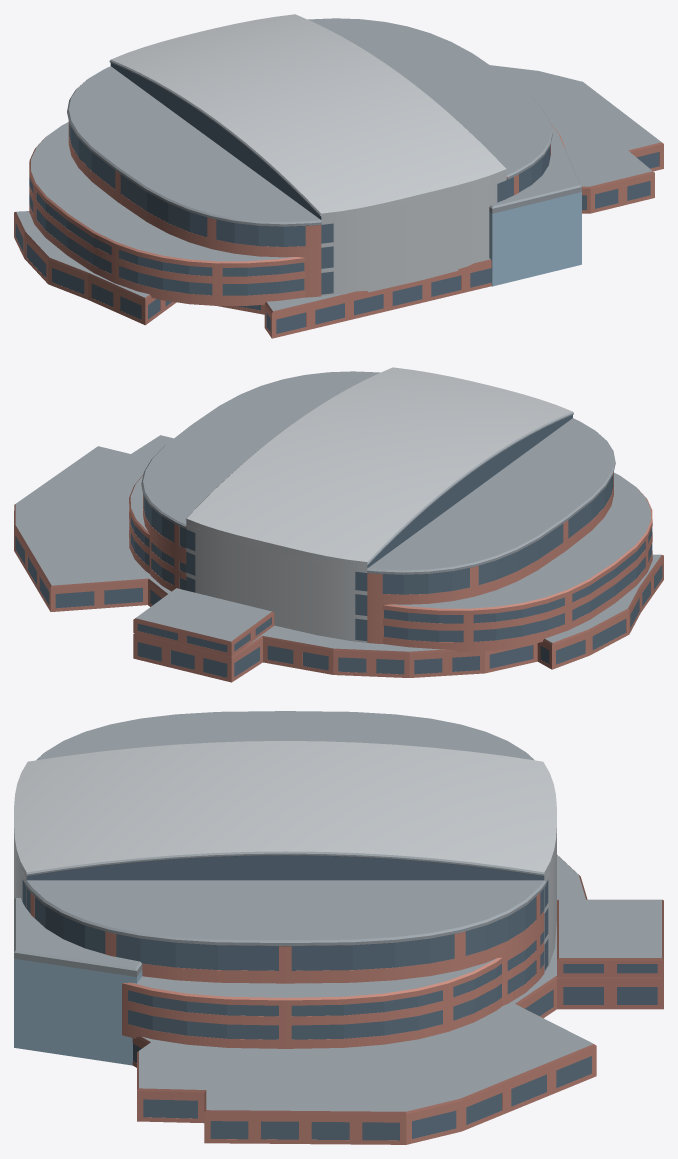
The model's file is spectrum-center.glb.
3 views of the same model, one above another, from view 1: azimuth 30°, elevation 25°; view 2: azimuth 150°, elevation 25°; view 3: azimuth 270°, elevation 25° (orthographic). The views are drawn at different scales.
Visible parts, largest first — view 1: Spectrum Center; view 2: Spectrum Center; view 3: Spectrum Center.
Part boxes in pixels (x1,y1,x2,y2): Spectrum Center: [14, 14, 663, 338]; Spectrum Center: [14, 367, 663, 682]; Spectrum Center: [14, 711, 663, 1144].
Size of the model in its own units: 208 by 43.8 by 164.
